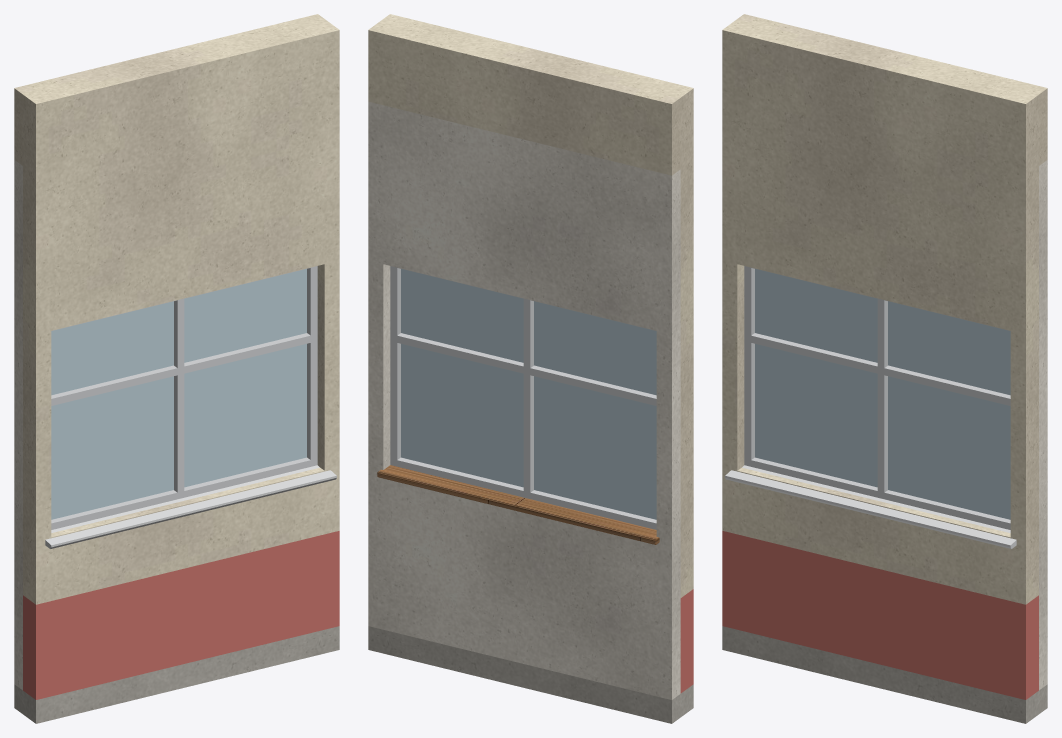
Rendered from w_win.glb.
3 renders of one model, left to right at view 1: azimuth 30°, elevation 25°; view 2: azimuth 150°, elevation 25°; view 3: azimuth 330°, elevation 25°, orthographic.
Parts seen in each view (by area): view 1: w_win_render, w_win_glass, w_win_tile_r, w_win_frame, w_win_concrete, w_win_plaster, w_win_coping; view 2: w_win_plaster, w_win_glass, w_win_render, w_win_frame, w_win_concrete, w_win_wood, w_win_tile_r; view 3: w_win_render, w_win_glass, w_win_tile_r, w_win_frame, w_win_concrete, w_win_plaster, w_win_coping.
Boxes of the visible parts, x1,y1,x2,y2 form: w_win_render: [14, 14, 339, 604]; w_win_glass: [51, 269, 306, 519]; w_win_tile_r: [23, 531, 339, 699]; w_win_frame: [51, 266, 317, 529]; w_win_concrete: [14, 626, 339, 723]; w_win_plaster: [14, 160, 22, 690]; w_win_coping: [45, 465, 336, 548]; w_win_plaster: [368, 101, 680, 699]; w_win_glass: [401, 269, 656, 519]; w_win_render: [368, 14, 693, 597]; w_win_frame: [390, 266, 656, 529]; w_win_concrete: [368, 626, 693, 723]; w_win_wood: [377, 465, 659, 544]; w_win_tile_r: [680, 589, 693, 693]; w_win_render: [722, 14, 1047, 604]; w_win_glass: [755, 269, 1010, 519]; w_win_tile_r: [722, 531, 1038, 699]; w_win_frame: [744, 266, 1010, 529]; w_win_concrete: [722, 626, 1047, 723]; w_win_plaster: [1039, 160, 1047, 690]; w_win_coping: [725, 465, 1016, 548].
Size of the model in its own units: 2 by 3.9 by 0.36.
Materials: 8 (4 with a texture image).
